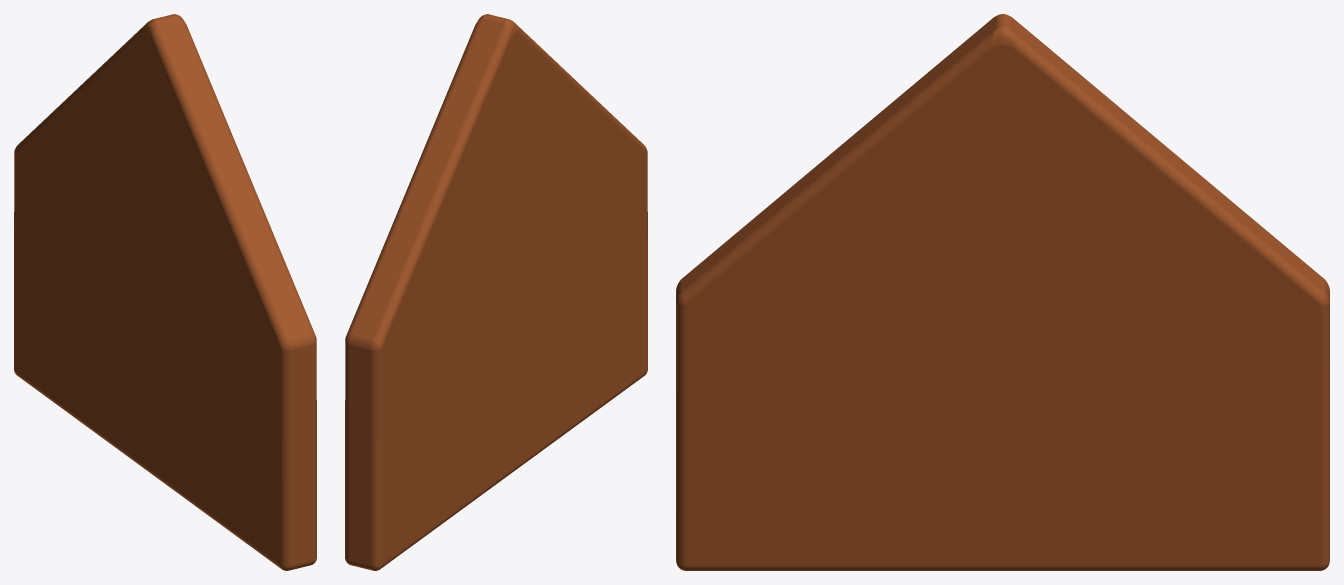
Rendered from Gingerbread Back Wall - scaled 1.fbx.
The picture shows the model from 3 angles, left to right: view 1: azimuth 30°, elevation 25°; view 2: azimuth 150°, elevation 25°; view 3: azimuth 270°, elevation 25°; orthographic projection. The views are drawn at different scales.
Visible parts, largest first — view 1: Cube; view 2: Cube; view 3: Cube.
Boxes of the visible parts, x1,y1,x2,y2 form: Cube: (14,14,316,570); Cube: (345,14,647,570); Cube: (676,14,1329,570).
Bounding box in the file's own units: 15 × 179 × 195.
